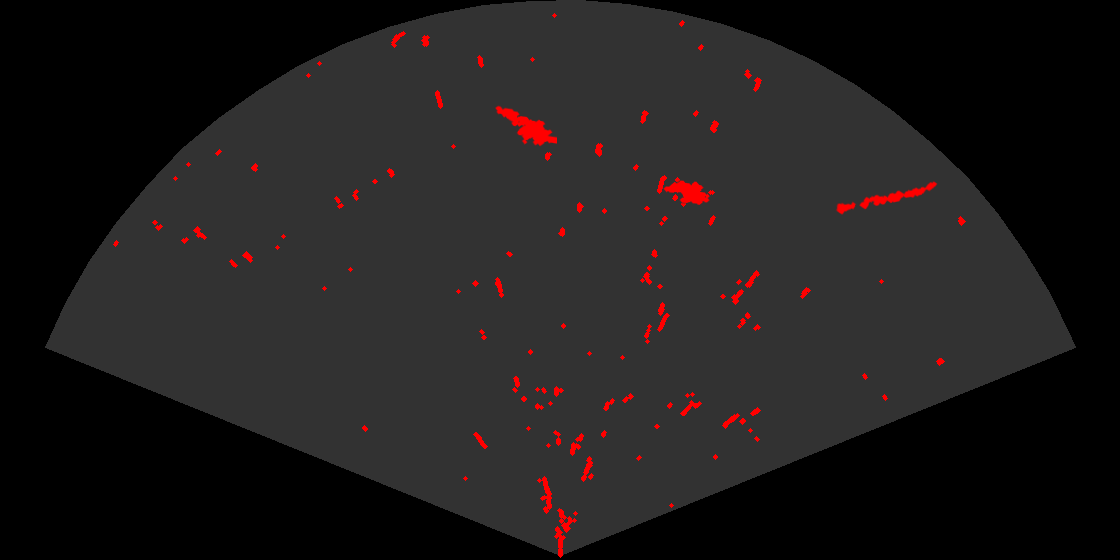AUV: (662, 179, 711, 206)
chain: (834, 180, 939, 216)
frogman: (494, 104, 557, 148)
